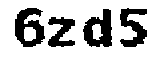5: (119, 4, 151, 52)
6: (9, 3, 46, 52)
d: (83, 6, 116, 50)
z: (47, 13, 79, 50)
